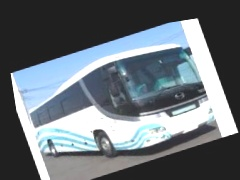bus: (13, 28, 225, 180)
